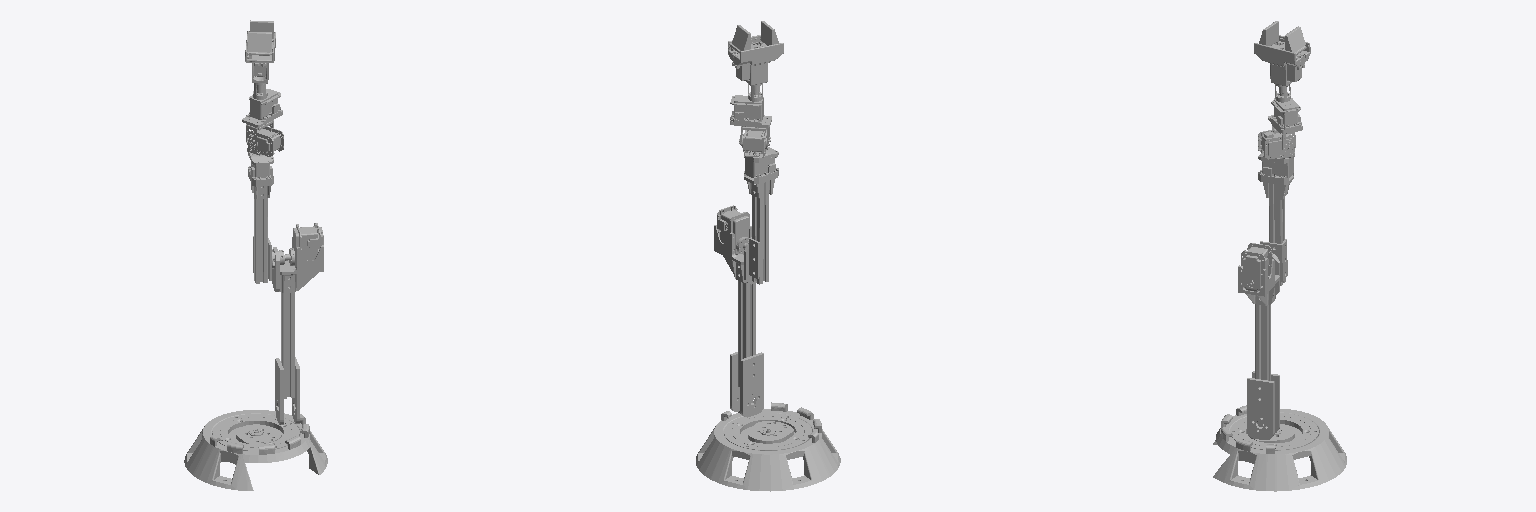
robot.urdf — srt:
<?xml version="1.0" encoding="utf-8"?>
<!-- This URDF was automatically created by SolidWorks to URDF Exporter! Originally created by [author] ([email redacted]) 
     Commit Version: 1.6.0-4-g7f85cfe  Build Version: 1.6.7995.38578
     For more information, please see http://wiki.ros.org/sw_urdf_exporter -->
<robot
  name="srt">
  <link
    name="base_link">
    <inertial>
      <origin
        xyz="0.188007626730148 0.0086948078667252 -0.0868371471519579"
        rpy="0 0 0" />
      <mass
        value="0.630316577568277" />
      <inertia
        ixx="0.00189525383746883"
        ixy="1.43122546767041E-09"
        ixz="3.38322450666179E-07"
        iyy="0.00404912286603478"
        iyz="-0.000127096841422743"
        izz="0.0024881580142991" />
    </inertial>
    <visual>
      <origin
        xyz="0 0 0"
        rpy="0 0 0" />
      <geometry>
        <mesh
          filename="package://moveit_resources_srt_description/meshes/visual/base_link.dae" />
      </geometry>
      <material
        name="">
        <color
          rgba="0.752941176470588 0.752941176470588 0.752941176470588 1" />
      </material>
    </visual>
    <collision>
      <origin
        xyz="0 0 0"
        rpy="0 0 0" />
      <geometry>
        <mesh
          filename="package://moveit_resources_srt_description/meshes/collision/base_link.stl" />
      </geometry>
    </collision>
  </link>
  <link
    name="T1">
    <inertial>
      <origin
        xyz="-0.0027054 0.016563 -0.0010564"
        rpy="0 0 0" />
      <mass
        value="0.5888" />
      <inertia
        ixx="0.00059452"
        ixy="1.1882E-06"
        ixz="1.6645E-07"
        iyy="0.0011547"
        iyz="3.4768E-07"
        izz="0.0006299" />
    </inertial>
    <visual>
      <origin
        xyz="0 0 0"
        rpy="0 0 0" />
      <geometry>
        <mesh
          filename="package://moveit_resources_srt_description/meshes/visual/T1.dae" />
      </geometry>
      <material
        name="">
        <color
          rgba="0.75294 0.75294 0.75294 1" />
      </material>
    </visual>
    <collision>
      <origin
        xyz="0 0 0"
        rpy="0 0 0" />
      <geometry>
        <mesh
          filename="package://moveit_resources_srt_description/meshes/collision/T1.stl" />
      </geometry>
    </collision>
  </link>
  <joint
    name="J1"
    type="revolute">
    <origin
      xyz="0.18799 0.077775 0.027433"
      rpy="1.5708 0 1.2254" />
    <parent
      link="base_link" />
    <child
      link="T1" />
    <axis
      xyz="0 -1 0" />
    <limit
      lower="-3"
      upper="3"
      effort="2.5"
      velocity="1" />
  </joint>
  <link
    name="T2">
    <inertial>
      <origin
        xyz="-0.10518 0.10914 -0.058221"
        rpy="0 0 0" />
      <mass
        value="0.44063" />
      <inertia
        ixx="0.00038613"
        ixy="0.00027935"
        ixz="-7.0374E-06"
        iyy="0.00036469"
        iyz="7.3091E-06"
        izz="0.00066344" />
    </inertial>
    <visual>
      <origin
        xyz="0 0 0"
        rpy="0 0 0" />
      <geometry>
        <mesh
          filename="package://moveit_resources_srt_description/meshes/visual/T2.dae" />
      </geometry>
      <material
        name="">
        <color
          rgba="0.75294 0.75294 0.75294 1" />
      </material>
    </visual>
    <collision>
      <origin
        xyz="0 0 0"
        rpy="0 0 0" />
      <geometry>
        <mesh
          filename="package://moveit_resources_srt_description/meshes/collision/T2.stl" />
      </geometry>
    </collision>
  </link>
  <joint
    name="J2"
    type="revolute">
    <origin
      xyz="0 0.042721 0"
      rpy="3.1416 0 -2.3753" />
    <parent
      link="T1" />
    <child
      link="T2" />
    <axis
      xyz="0 0 1" />
    <limit
      lower="-1.5"
      upper="1.5"
      effort="25"
      velocity="1" />
  </joint>
  <link
    name="T3">
    <inertial>
      <origin
        xyz="0.0112980682766858 0.00715486747880251 0.0690263165092241"
        rpy="0 0 0" />
      <mass
        value="0.197425698991076" />
      <inertia
        ixx="0.000279878432304002"
        ixy="1.97195639996255E-06"
        ixz="-2.59090499939568E-09"
        iyy="0.00027064972209345"
        iyz="-4.17244209266426E-07"
        izz="3.23781317476175E-05" />
    </inertial>
    <visual>
      <origin
        xyz="0 0 0"
        rpy="0 0 0" />
      <geometry>
        <mesh
          filename="package://moveit_resources_srt_description/meshes/visual/T3.dae" />
      </geometry>
      <material
        name="">
        <color
          rgba="0.752941176470588 0.752941176470588 0.752941176470588 1" />
      </material>
    </visual>
    <collision>
      <origin
        xyz="0 0 0"
        rpy="0 0 0" />
      <geometry>
        <mesh
          filename="package://moveit_resources_srt_description/meshes/collision/T3.stl" />
      </geometry>
    </collision>
  </link>
  <joint
    name="J3"
    type="revolute">
    <origin
      xyz="-0.18287 0.18965 0"
      rpy="-1.4205 1.5708 0.9085" />
    <parent
      link="T2" />
    <child
      link="T3" />
    <axis
      xyz="1 0 0" />
    <limit
      lower="-3"
      upper="3"
      effort="8.4"
      velocity="1" />
  </joint>
  <link
    name="T4">
    <inertial>
      <origin
        xyz="-0.0230640854153213 -0.0106968287131017 -7.35997816330158E-05"
        rpy="0 0 0" />
      <mass
        value="0.0466864291253788" />
      <inertia
        ixx="1.29455245951545E-05"
        ixy="4.14457893317139E-09"
        ixz="-2.54879667108005E-09"
        iyy="8.07493907158762E-06"
        iyz="-3.89681497194961E-07"
        izz="1.05933583869909E-05" />
    </inertial>
    <visual>
      <origin
        xyz="0 0 0"
        rpy="0 0 0" />
      <geometry>
        <mesh
          filename="package://moveit_resources_srt_description/meshes/visual/T4.dae" />
      </geometry>
      <material
        name="">
        <color
          rgba="0.752941176470588 0.752941176470588 0.752941176470588 1" />
      </material>
    </visual>
    <collision>
      <origin
        xyz="0 0 0"
        rpy="0 0 0" />
      <geometry>
        <mesh
          filename="package://moveit_resources_srt_description/meshes/collision/T4.stl" />
      </geometry>
    </collision>
  </link>
  <joint
    name="J4"
    type="revolute">
    <origin
      xyz="0.0090718 0.020515 0.18048"
      rpy="-1.895 1.5708 -1.1636" />
    <parent
      link="T3" />
    <child
      link="T4" />
    <axis
      xyz="-1 0 0" />
    <limit
      lower="-3"
      upper="3"
      effort="2.5"
      velocity="1" />
  </joint>
  <link
    name="T5">
    <inertial>
      <origin
        xyz="-0.0492656948897521 0.00166439878334901 0.009800763834619"
        rpy="0 0 0" />
      <mass
        value="0.0614885428432789" />
      <inertia
        ixx="1.74702844051284E-05"
        ixy="3.31974912512973E-08"
        ixz="-2.39147565702409E-07"
        iyy="1.83815180055208E-05"
        iyz="1.59947229399635E-09"
        izz="9.88283783645591E-06" />
    </inertial>
    <visual>
      <origin
        xyz="0 0 0"
        rpy="0 0 0" />
      <geometry>
        <mesh
          filename="package://moveit_resources_srt_description/meshes/visual/T5.dae" />
      </geometry>
      <material
        name="">
        <color
          rgba="0.752941176470588 0.752941176470588 0.752941176470588 1" />
      </material>
    </visual>
    <collision>
      <origin
        xyz="0 0 0"
        rpy="0 0 0" />
      <geometry>
        <mesh
          filename="package://moveit_resources_srt_description/meshes/collision/T5.stl" />
      </geometry>
    </collision>
  </link>
  <joint
    name="J5"
    type="revolute">
    <origin
      xyz="-0.023768 0 0"
      rpy="0 0 0.045269" />
    <parent
      link="T4" />
    <child
      link="T5" />
    <axis
      xyz="0 0 -1" />
    <limit
      lower="-3"
      upper="3"
      effort="2.5"
      velocity="1" />
  </joint>
  <link
    name="EE">
    <inertial>
      <origin
        xyz="0.00183631047286098 4.77805566287542E-05 0.0765096920672025"
        rpy="0 0 0" />
      <mass
        value="0.110312867500219" />
      <inertia
        ixx="2.7866273334521E-05"
        ixy="-1.45555772873941E-07"
        ixz="-7.73042154591554E-09"
        iyy="3.40725787276711E-05"
        iyz="-6.98019276820346E-09"
        izz="3.87014166474658E-05" />
    </inertial>
    <visual>
      <origin
        xyz="0 0 0"
        rpy="0 0 0" />
      <geometry>
        <mesh
          filename="package://moveit_resources_srt_description/meshes/visual/EE.dae" />
      </geometry>
      <material
        name="">
        <color
          rgba="0.752941176470588 0.752941176470588 0.752941176470588 1" />
      </material>
    </visual>
    <collision>
      <origin
        xyz="0 0 0"
        rpy="0 0 0" />
      <geometry>
        <mesh
          filename="package://moveit_resources_srt_description/meshes/collision/EE.stl" />
      </geometry>
    </collision>
  </link>
  <joint
    name="J6"
    type="revolute">
    <origin
      xyz="-0.074688 0.0025087 0.0001"
      rpy="-1.5708 -0.95634 1.5372" />
    <parent
      link="T5" />
    <child
      link="EE" />
    <axis
      xyz="0 0 1" />
    <limit
      lower="-3"
      upper="3"
      effort="2.5"
      velocity="1" />
  </joint>
</robot>

--- Facts derived from the render (not from the file) ---
Views: 3 orthographic renders of the robot side by side, from view 1: azimuth 30°, elevation 25°; view 2: azimuth 150°, elevation 25°; view 3: azimuth 270°, elevation 25°.
Model srt with 7 links and 6 joints (6 revolute), rooted at base_link, posed every joint at zero.
Visible links, largest first — view 1: base_link, T2, T3, EE, T5, T4; view 2: base_link, T2, T3, EE, T5, T4; view 3: base_link, T2, EE, T3, T5, T4.
Boxes of the visible links, x1,y1,x2,y2 form: base_link: (184,410,327,490); T2: (272,223,323,424); T3: (248,152,290,283); EE: (245,20,275,98); T5: (242,89,282,145); T4: (247,126,283,156); base_link: (696,402,840,491); T2: (714,205,763,417); T3: (743,147,778,284); EE: (728,21,783,100); T5: (730,95,771,146); T4: (739,130,767,157); base_link: (1213,405,1346,491); T2: (1238,243,1279,439); EE: (1254,21,1310,101); T3: (1258,153,1293,285); T5: (1268,98,1302,149); T4: (1258,129,1294,159).
Bounding box of the posed robot: 0.2301 × 0.2121 × 0.7588 m (x, y, z).
6 mesh visuals loaded from 7 distinct referenced files (6 Collada DAE); not drawn: 1 (reference not matched to a file when rendering).
